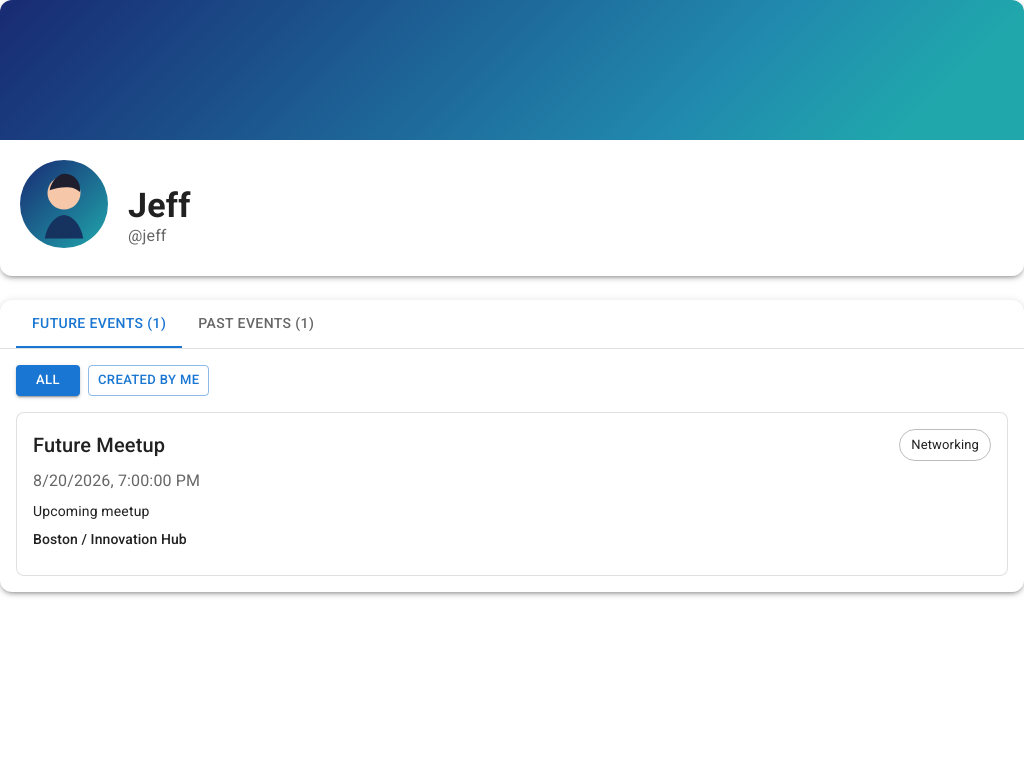
Test: UserProfilePage › switches to past events tab
Click the tab "Past Events (1)": click(256, 324) top-left (182, 300), bottom-right (330, 348)
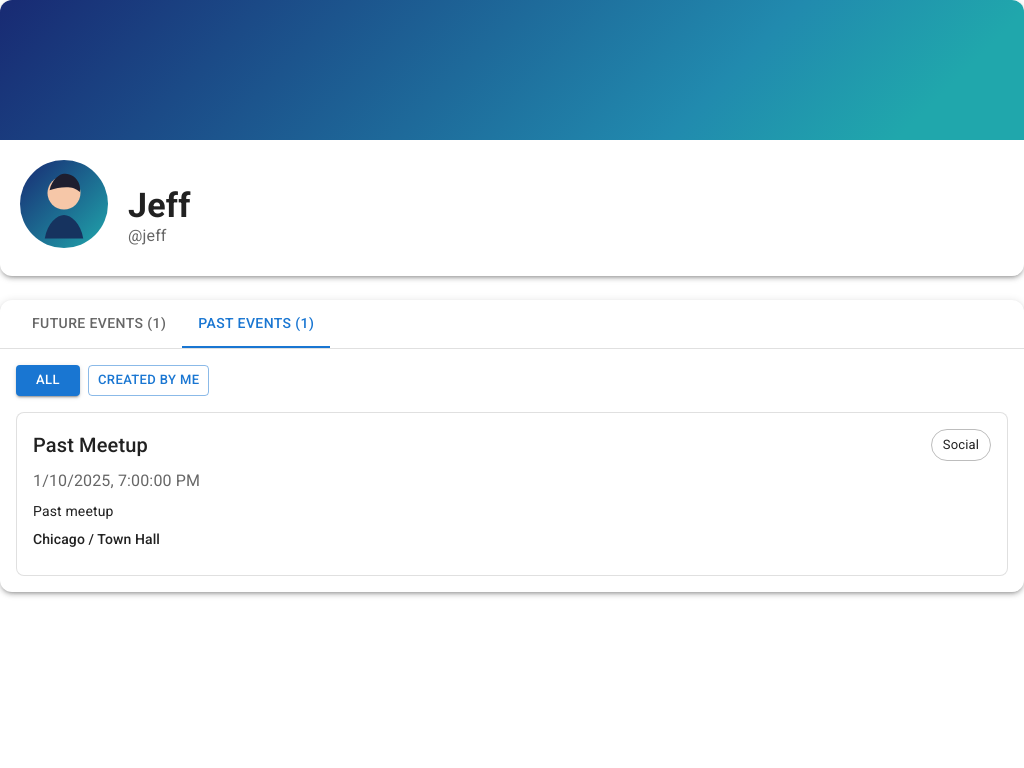
Now the heading "Past Meetup" is shown, box top-left (33, 429), bottom-right (148, 461)
Now the heading "Future Meetup" is gone
